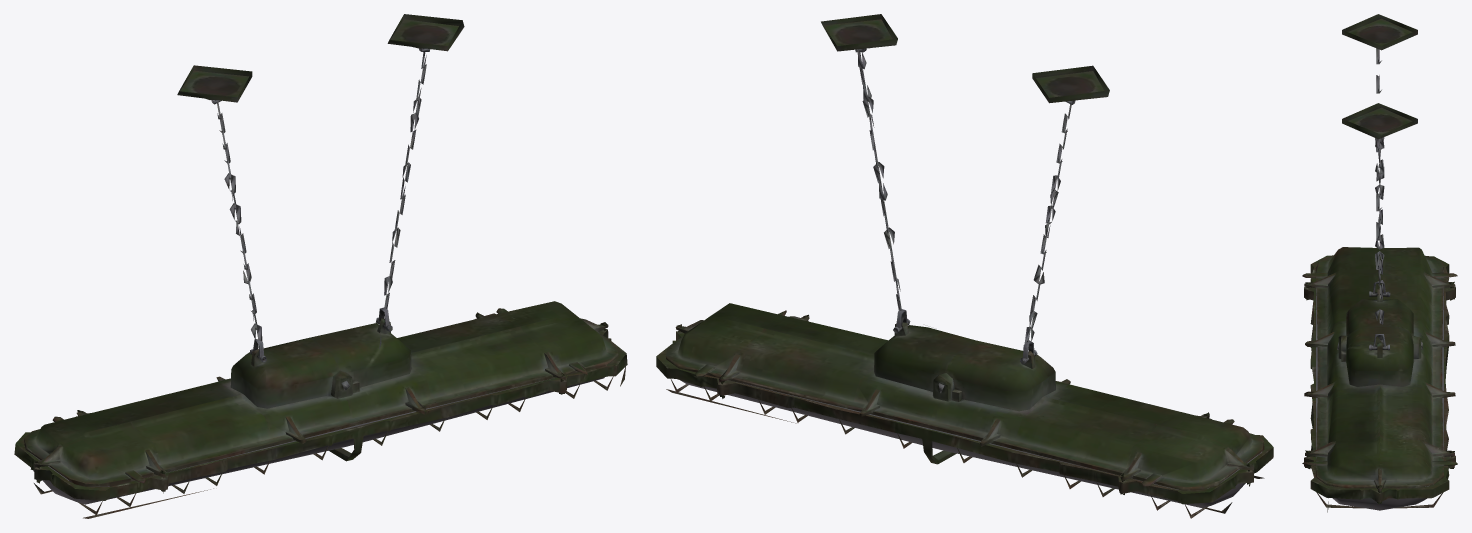
File: caged_hanging_light.glb
The picture shows the model from 3 angles, left to right: view 1: azimuth 30°, elevation 25°; view 2: azimuth 150°, elevation 25°; view 3: azimuth 270°, elevation 25°; orthographic projection. The views are drawn at different scales.
Parts seen in each view (by area): view 1: caged_hanging_light; view 2: caged_hanging_light; view 3: caged_hanging_light.
Boxes of the visible parts, x1,y1,x2,y2 form: caged_hanging_light: (14, 14, 627, 518); caged_hanging_light: (656, 14, 1273, 518); caged_hanging_light: (1302, 14, 1457, 512).
Size of the model in its own units: 1.16 by 0.7501 by 0.3149.
1 material, 1 textured.
